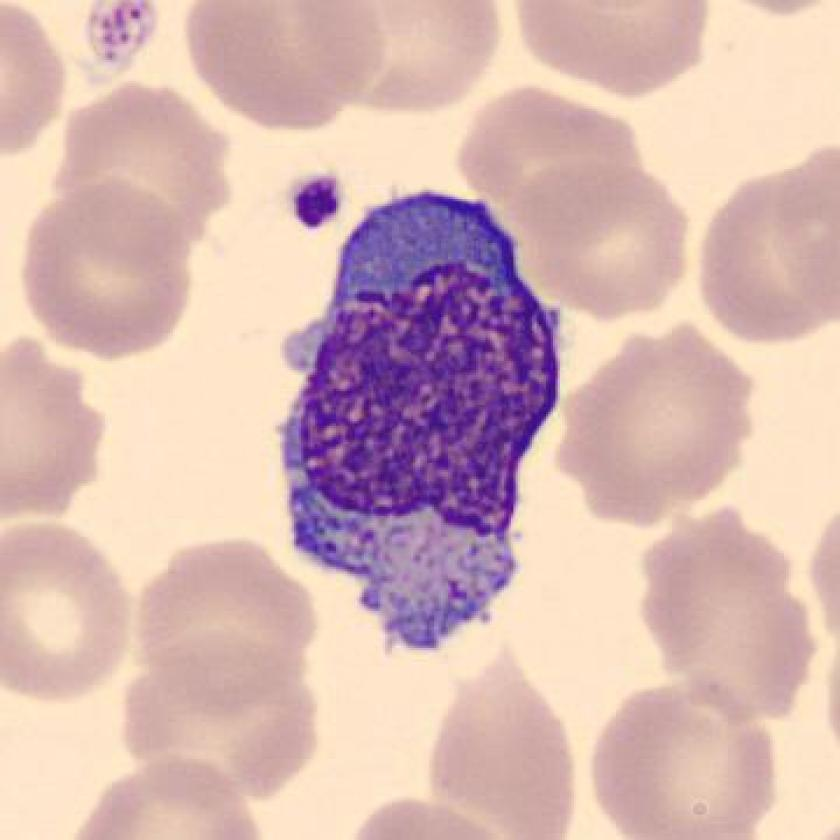monocyte: (258, 170, 582, 663)
